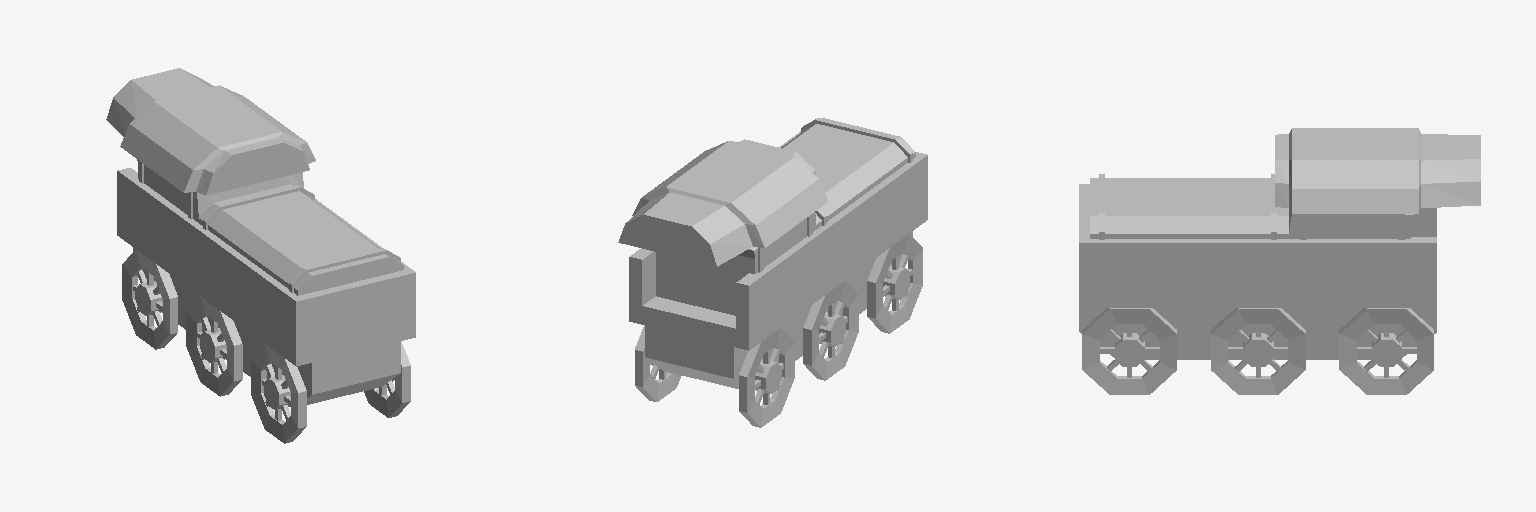
File: Carriage.obj
3 views of the same model, side by side, from view 1: azimuth 30°, elevation 25°; view 2: azimuth 150°, elevation 25°; view 3: azimuth 270°, elevation 25° (orthographic).
Visible parts, largest first — view 1: Cube.001_Cube.005; view 2: Cube.001_Cube.005; view 3: Cube.001_Cube.005.
Boxes of the visible parts, x1,y1,x2,y2 form: Cube.001_Cube.005: [106, 68, 415, 443]; Cube.001_Cube.005: [618, 118, 927, 427]; Cube.001_Cube.005: [1079, 128, 1480, 394].
Bounding box in the file's own units: 2.98 × 4.8 × 7.8.